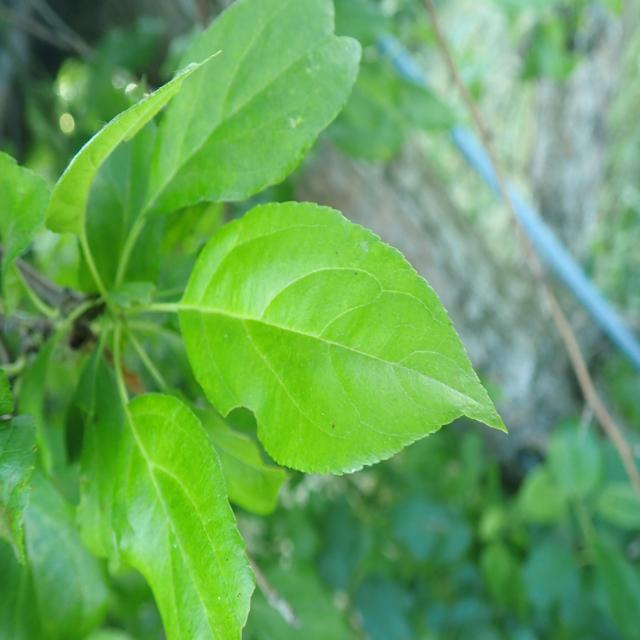healthy: (178, 200, 511, 478), (149, 0, 363, 215), (76, 392, 256, 640)
